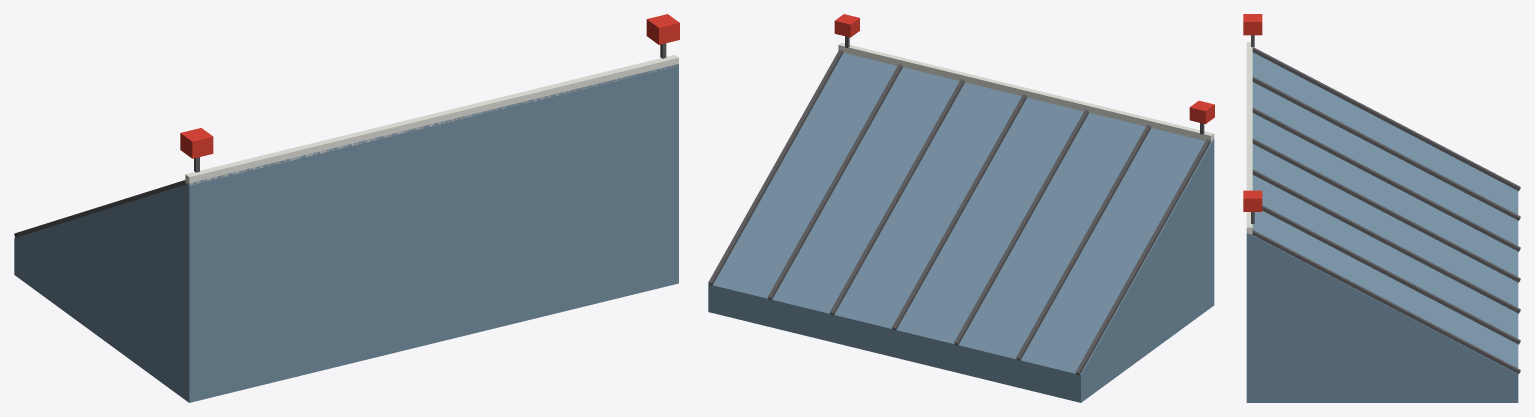
Rendered from crown_slope.glb.
3 renders of one model, left to right at view 1: azimuth 30°, elevation 25°; view 2: azimuth 150°, elevation 25°; view 3: azimuth 270°, elevation 25°, orthographic. The views are drawn at different scales.
Parts seen in each view (by area): view 1: crown_slope; view 2: crown_slope; view 3: crown_slope.
Part boxes in pixels (x1,y1,x2,y2): crown_slope: (14, 14, 679, 402); crown_slope: (708, 14, 1214, 402); crown_slope: (1243, 14, 1520, 402).
Bounding box in the file's own units: 21 × 10.75 × 13.25.
